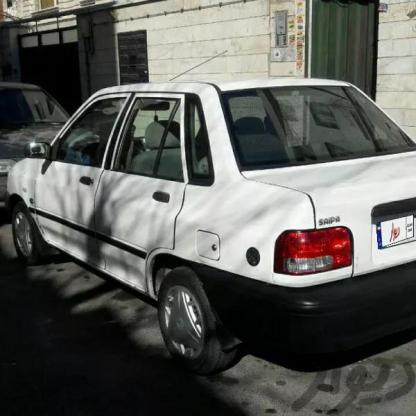Car: (0, 79, 416, 352), (0, 87, 74, 176)
